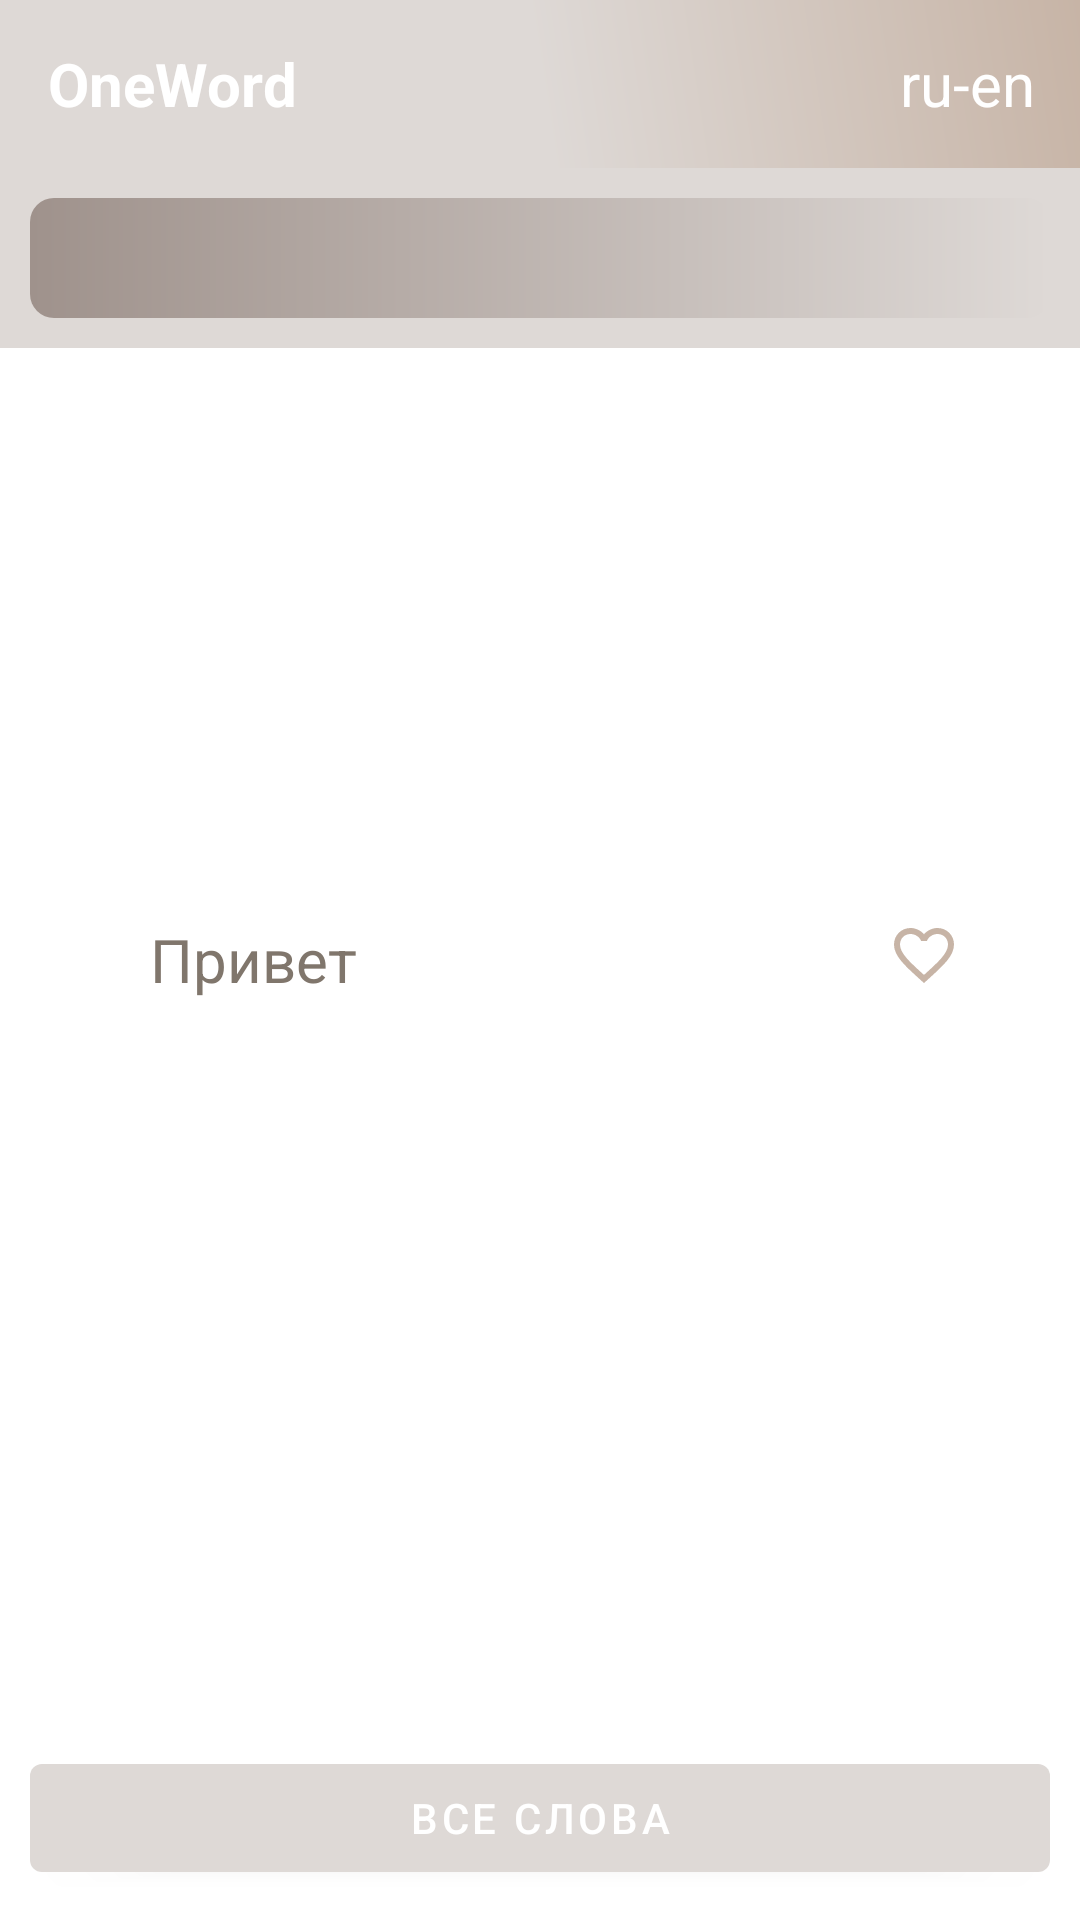

Icons on this 1080 × 1920 Android screen, each with the point to tap as (x=x, y=y):
save: (x=924, y=955)
